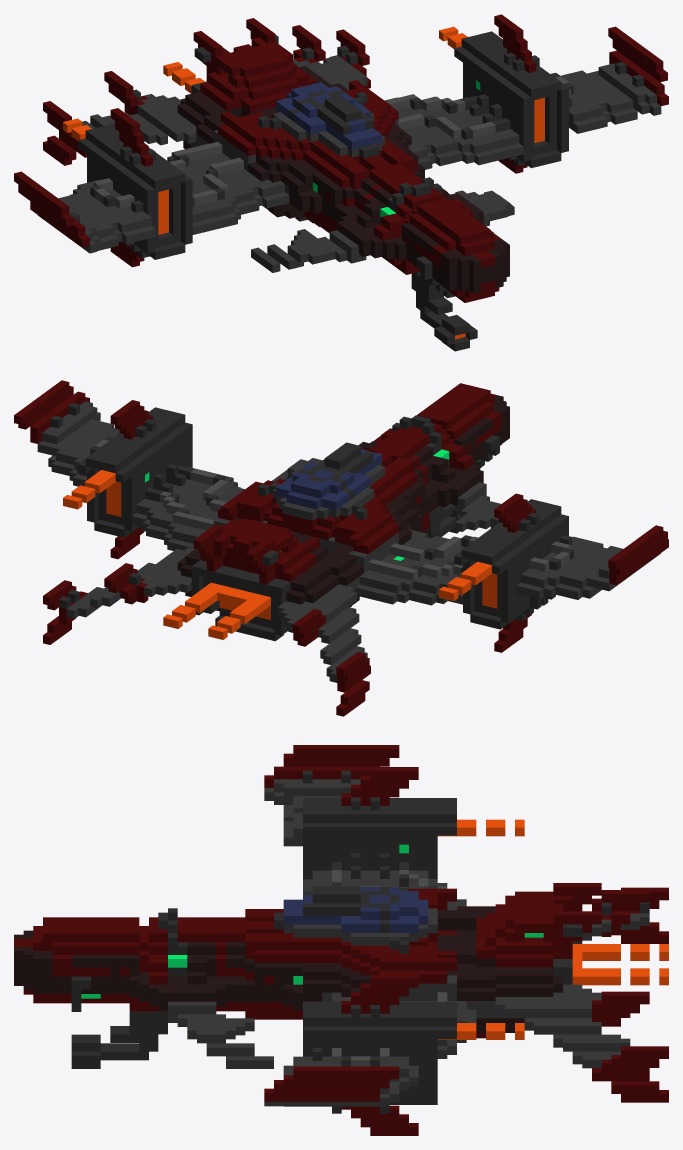
File: ship.gltf
3 renders of one model, top to bottom at view 1: azimuth 30°, elevation 25°; view 2: azimuth 150°, elevation 25°; view 3: azimuth 270°, elevation 25°, orthographic. The views are drawn at different scales.
Parts seen in each view (by area): view 1: Ship; view 2: Ship; view 3: Ship.
Part boxes in pixels (bbox=[...]): Ship: bbox=[14, 14, 668, 351]; Ship: bbox=[14, 380, 668, 716]; Ship: bbox=[14, 745, 668, 1135].
Bounding box in the file's own units: 8 × 2.2 × 6.8.
Materials: 1 (1 with a texture image).
